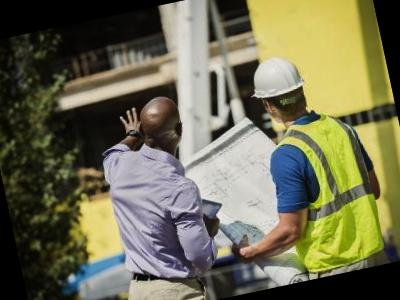no_helmet: (131, 89, 198, 162)
